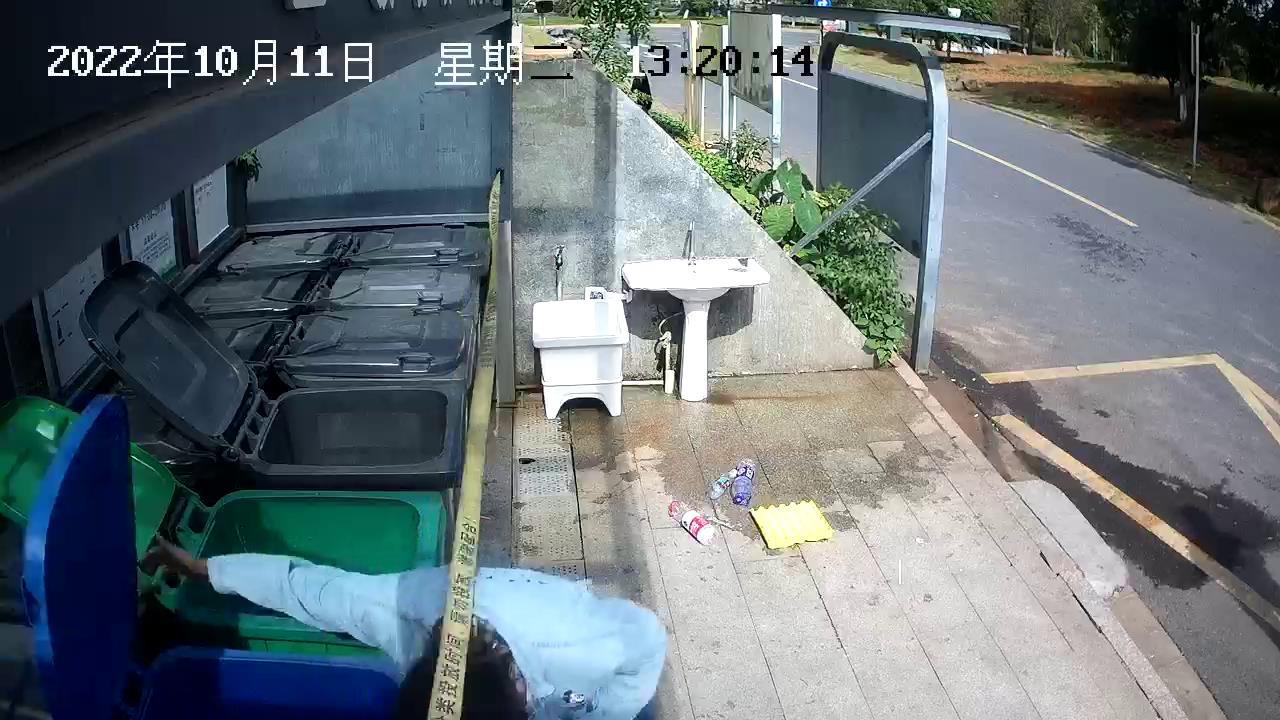suliaozhipin: (664, 495, 719, 546), (729, 455, 758, 506), (707, 466, 741, 501)
worker: (135, 528, 672, 720)
zhizhipin: (747, 495, 837, 552)
